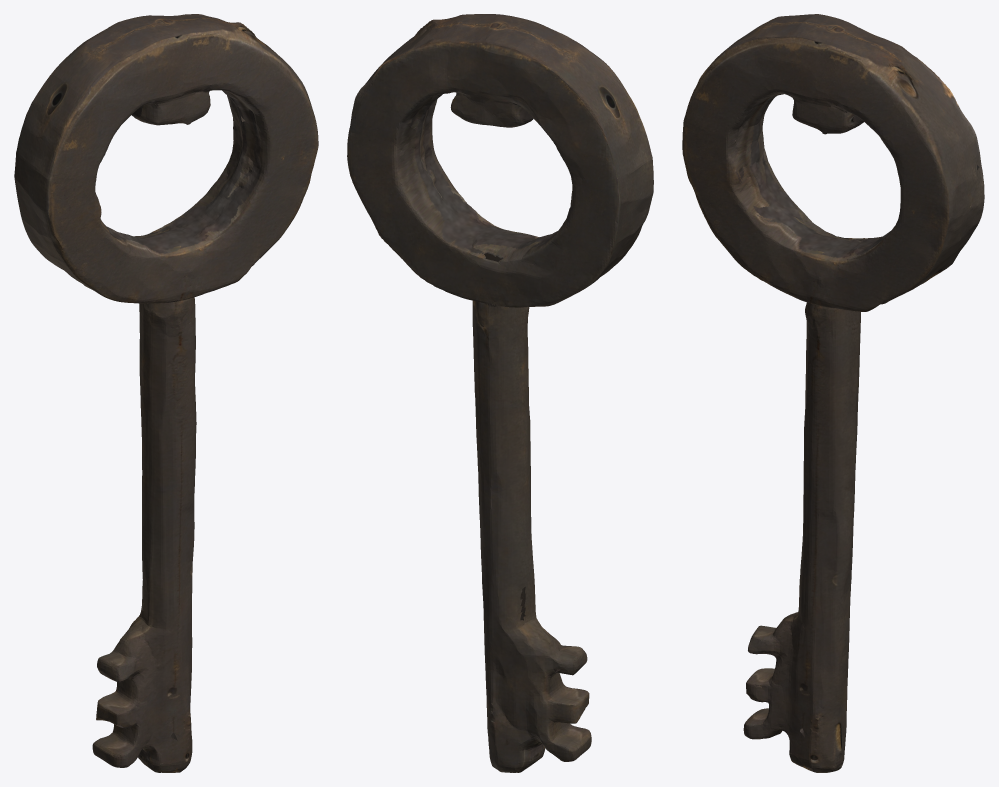
File: Antique_Key_0513140100_texture.fbx
The picture shows the model from 3 angles, left to right: view 1: azimuth 30°, elevation 25°; view 2: azimuth 150°, elevation 25°; view 3: azimuth 330°, elevation 25°; orthographic projection.
Parts seen in each view (by area): view 1: temp; view 2: temp; view 3: temp.
Boxes of the visible parts, bbox=[...] form: temp: bbox=[14, 14, 318, 772]; temp: bbox=[347, 14, 653, 772]; temp: bbox=[682, 14, 984, 772].
Bounding box in the file's own units: 77.19 × 200 × 21.17.
1 material, 1 textured.
